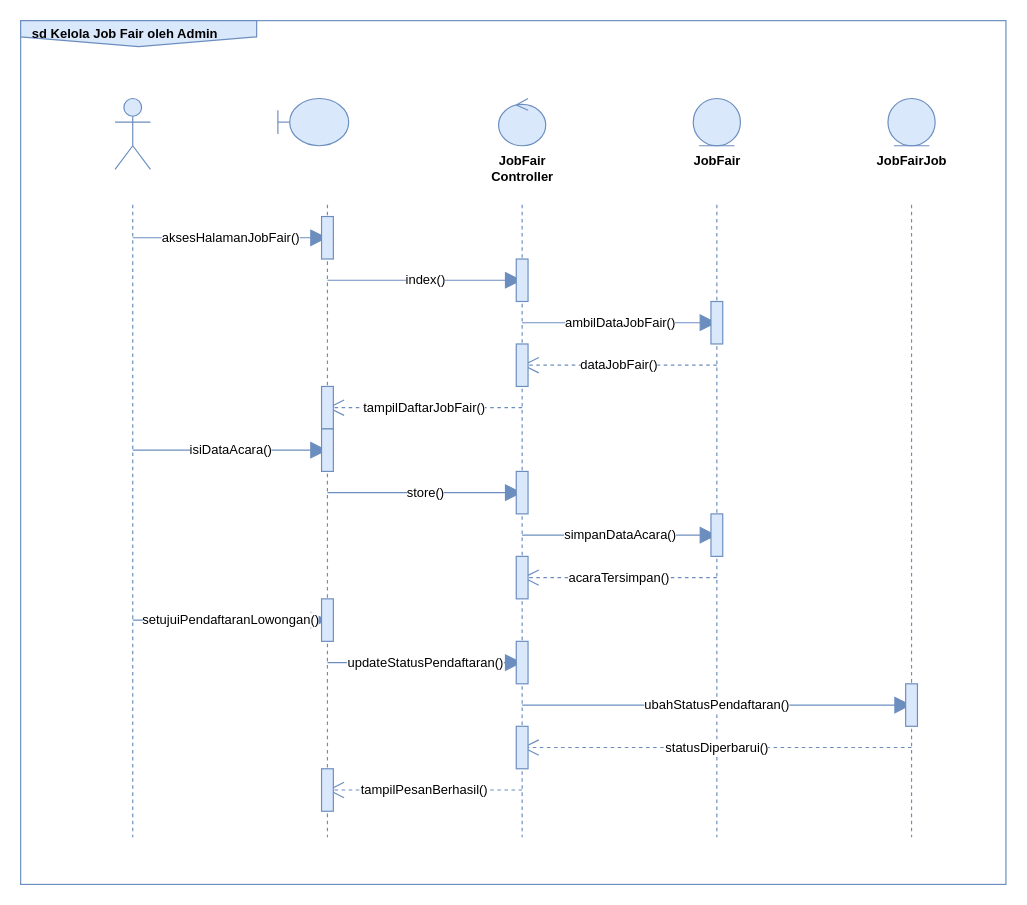
The diagram is 1027 pixels wide and 905 high, and some of its shapes have lost their labels. Here are the shapes that lost their labels. From the top down, the centre of each, then its label:
At point 132,133: "Admin".
At point 313,121: "Halaman Job Fair".
